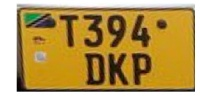T: (58, 13, 81, 49)
